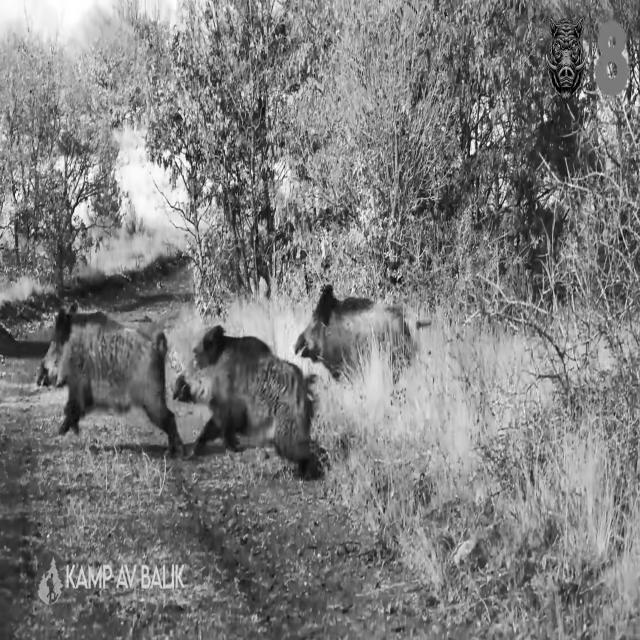boar: (174, 325, 314, 473), (42, 311, 182, 454), (294, 285, 411, 380)
